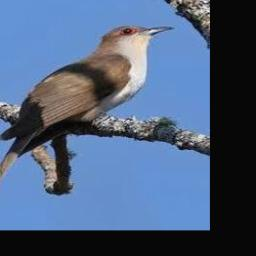Cuckoo: (0, 26, 174, 214)
